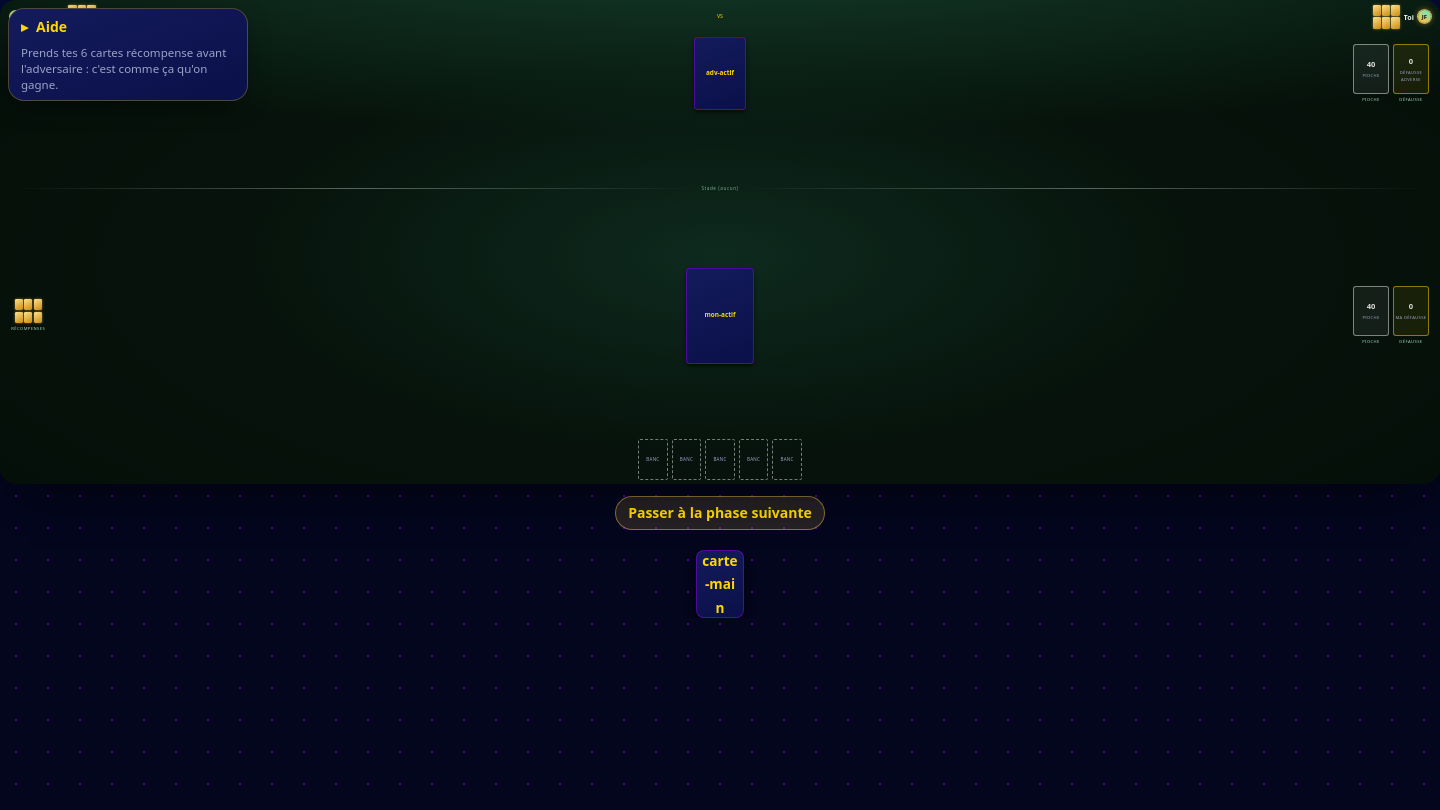
Test: GameBoard — soumettre un coup › affiche la raison du moteur quand le serveur refuse le coup (422)
The image size is (1440, 810).
What coordinates should you click on to do the following:
click the button with test id "action-avancer_phase"
I would click on:
 (720, 513)
Its box is [615, 496, 825, 530].
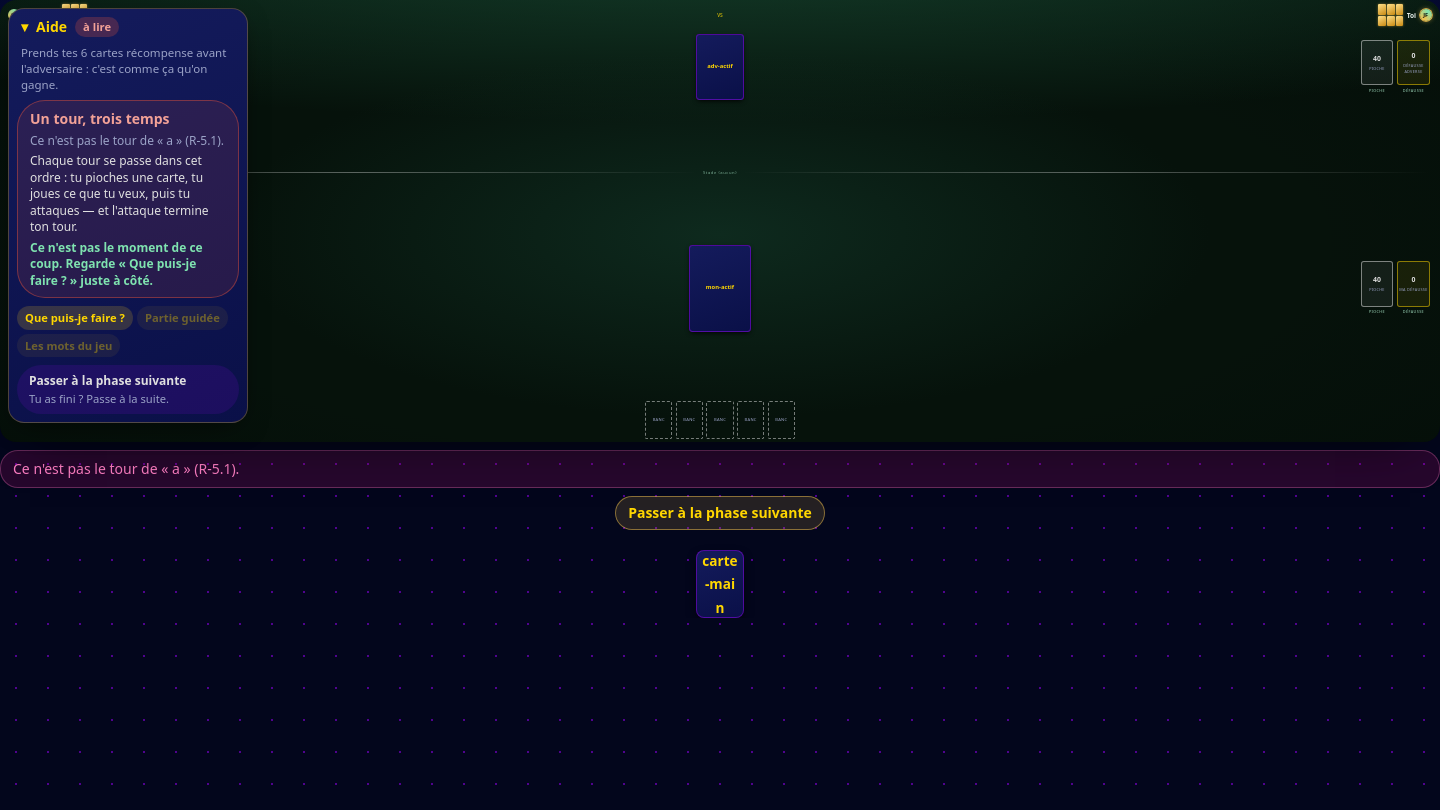
Check: the text "Ce n'est pas le tour de « a » (R-5.1)." is shown, box [0, 450, 1439, 488]
